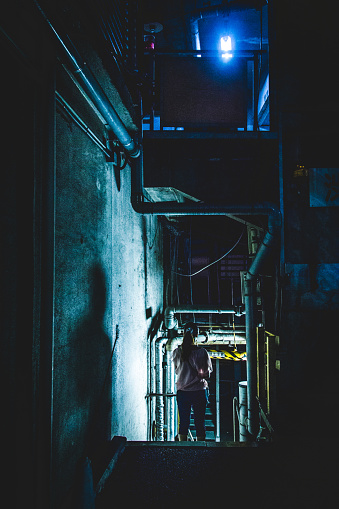em pe: (171, 328, 211, 439)
